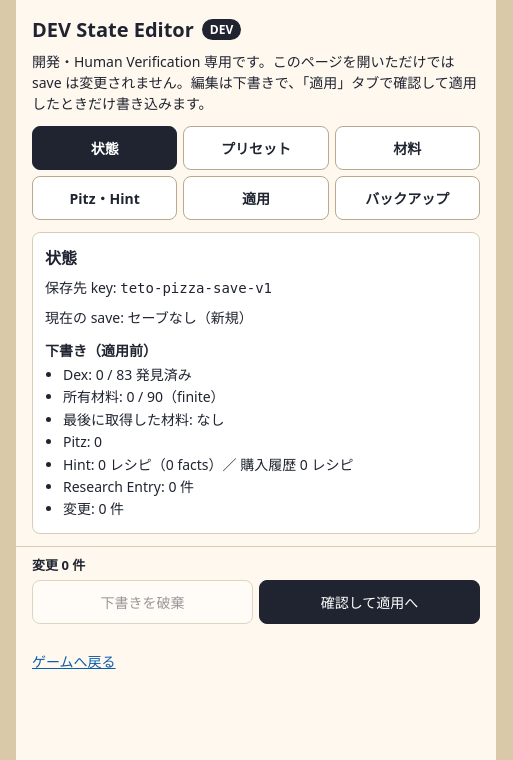
it: presets › a preset only replaces the DRAFT: the status shows it and storage is untouched
Click the tab "プリセット". click: (256, 148)
box: 183,126 -> 329,170
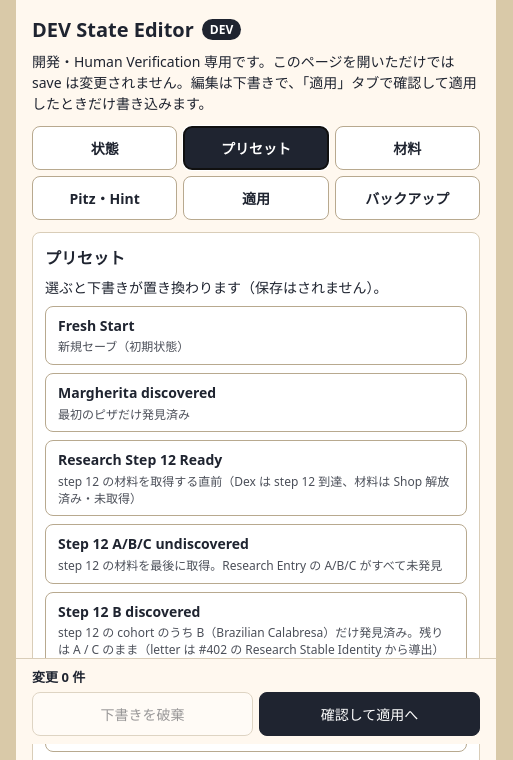
Now the button that starts with "Step 12 B discovered" is enabled, box 45,592 -> 467,668
Click the button "Step 12 A/B/C undiscovered". click: (256, 554)
box: 45,524 -> 467,584
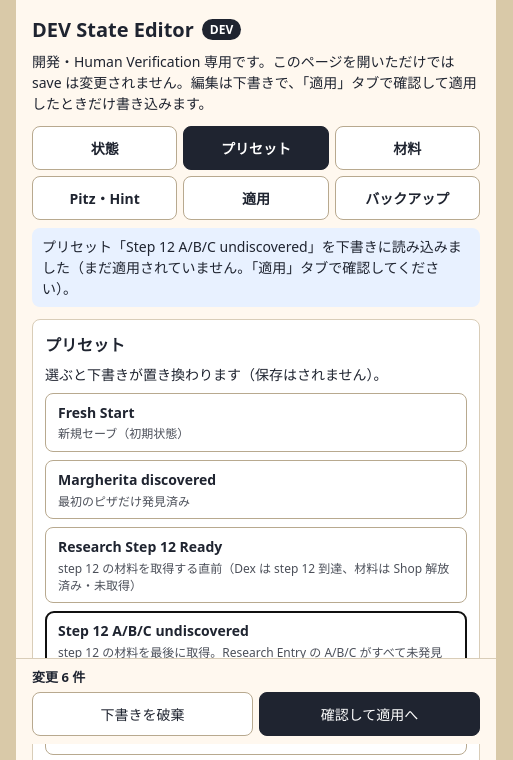
Now the message shows "まだ適用されていません", box 42,237 -> 462,298
Click the tab "状態". click: (105, 148)
box: 32,126 -> 177,170
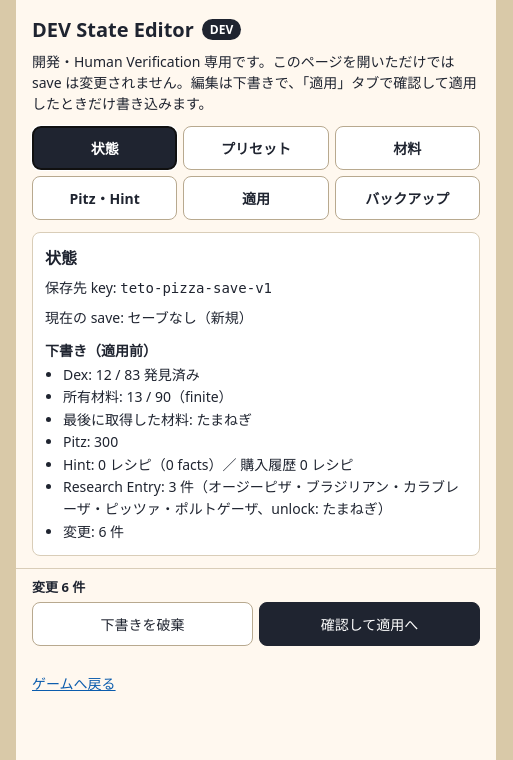
Now the list item that starts with "Research Entry:" shows "たまねぎ", box 63,477 -> 459,518
Now the list item "変更: 6 件" is shown, box 63,522 -> 124,541
